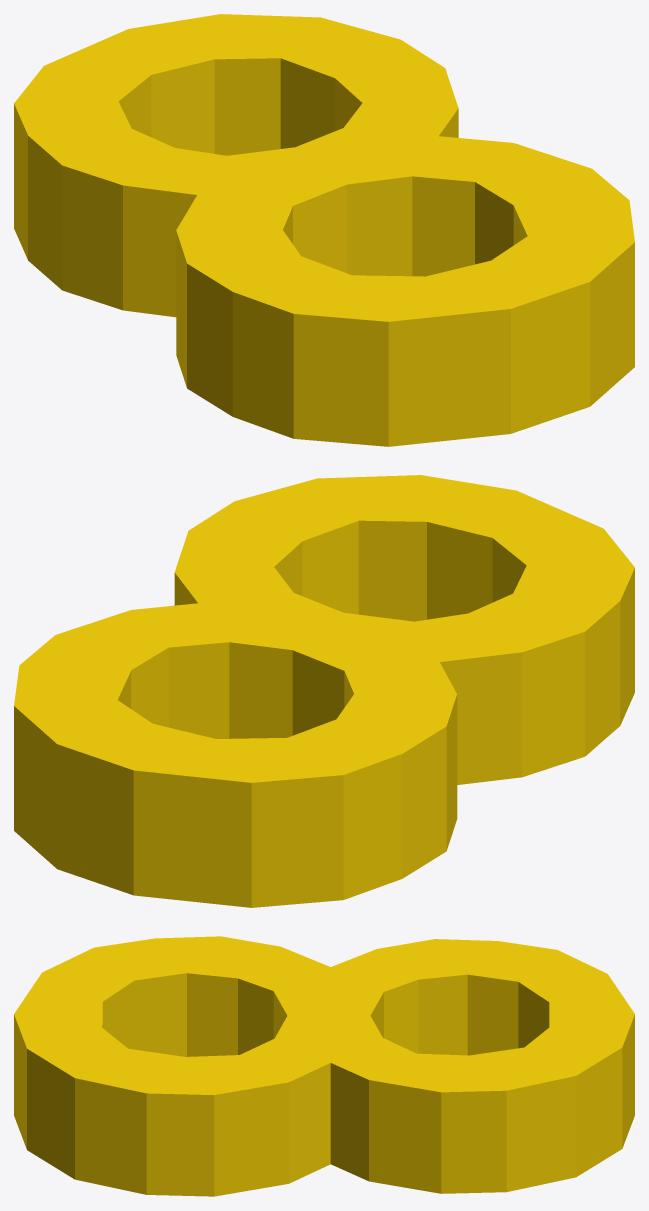
Rendered from eight.glb.
3 views of the same model, one above another, from view 1: azimuth 30°, elevation 25°; view 2: azimuth 150°, elevation 25°; view 3: azimuth 270°, elevation 25° (orthographic). The views are drawn at different scales.
Visible parts, largest first — view 1: Text.008; view 2: Text.008; view 3: Text.008.
Part boxes in pixels (box(x1,y1,x2,y2)): Text.008: box(14, 14, 634, 446); Text.008: box(14, 475, 634, 907); Text.008: box(14, 936, 634, 1196).
Bounding box in the file's own units: 0.3356 × 0.1 × 0.5546.
Materials: 1 (1 with a texture image).
